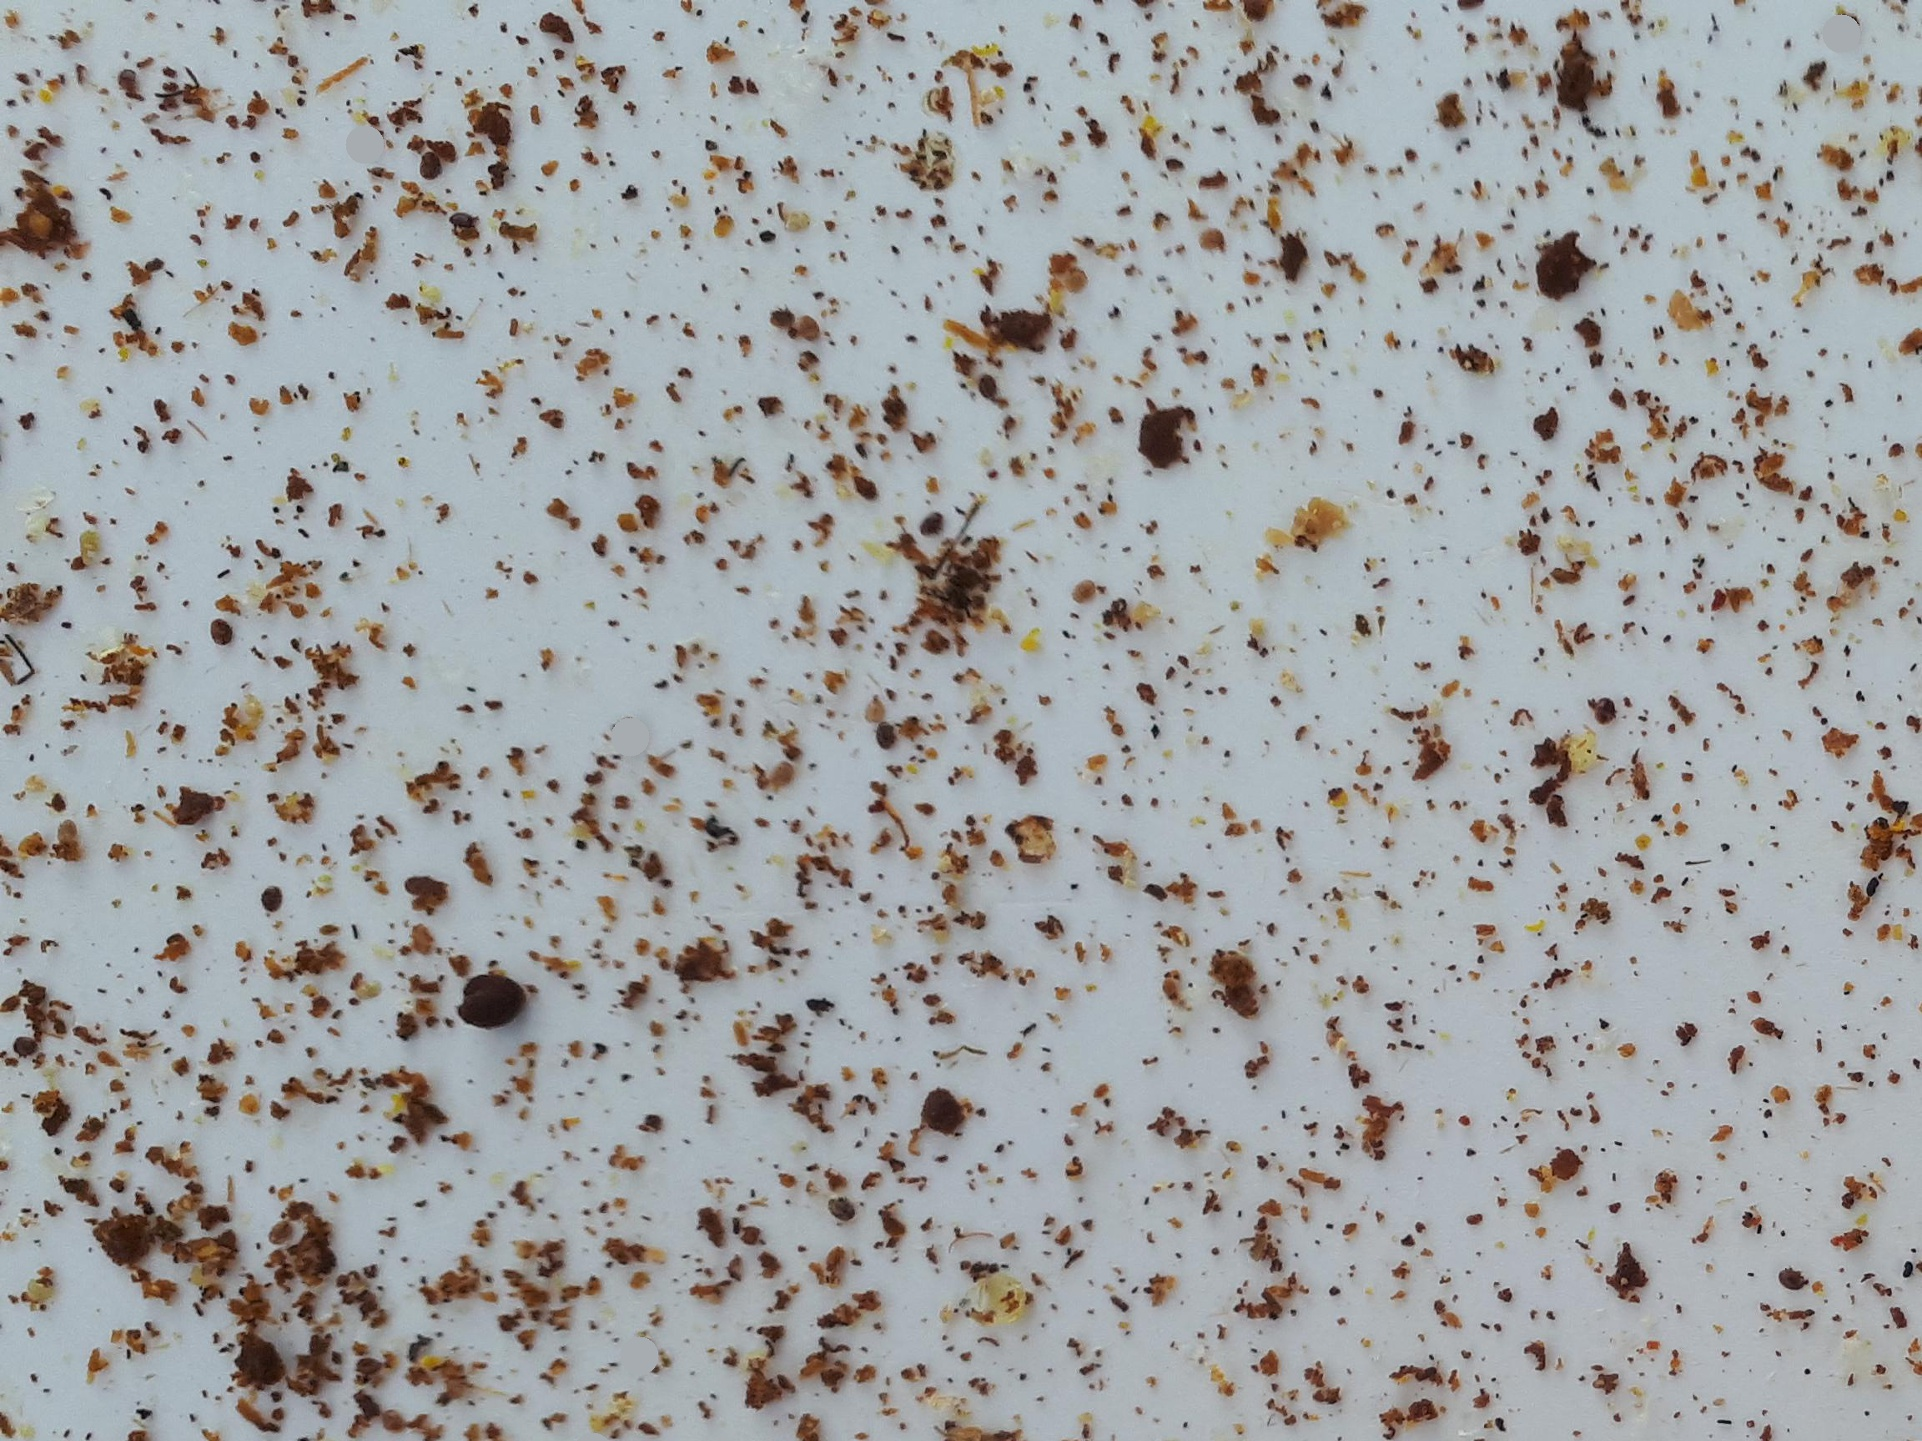Varroa: (5, 1028, 44, 1067), (969, 366, 1006, 406), (763, 300, 801, 338), (204, 615, 241, 652), (446, 210, 483, 247), (253, 885, 288, 923), (416, 151, 451, 186), (910, 512, 944, 546), (1065, 575, 1099, 612), (1594, 696, 1628, 730), (1774, 1261, 1805, 1296), (823, 1190, 855, 1223), (867, 727, 899, 758)
